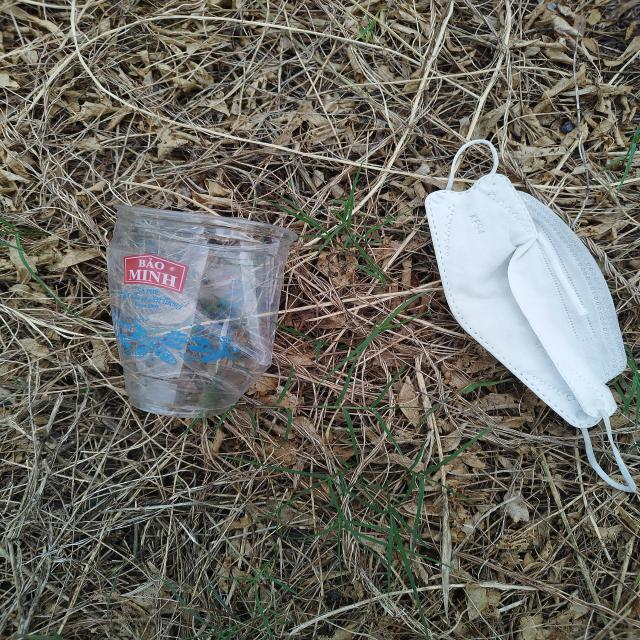mask: (422, 139, 640, 492)
plastic glass: (109, 205, 298, 418)
